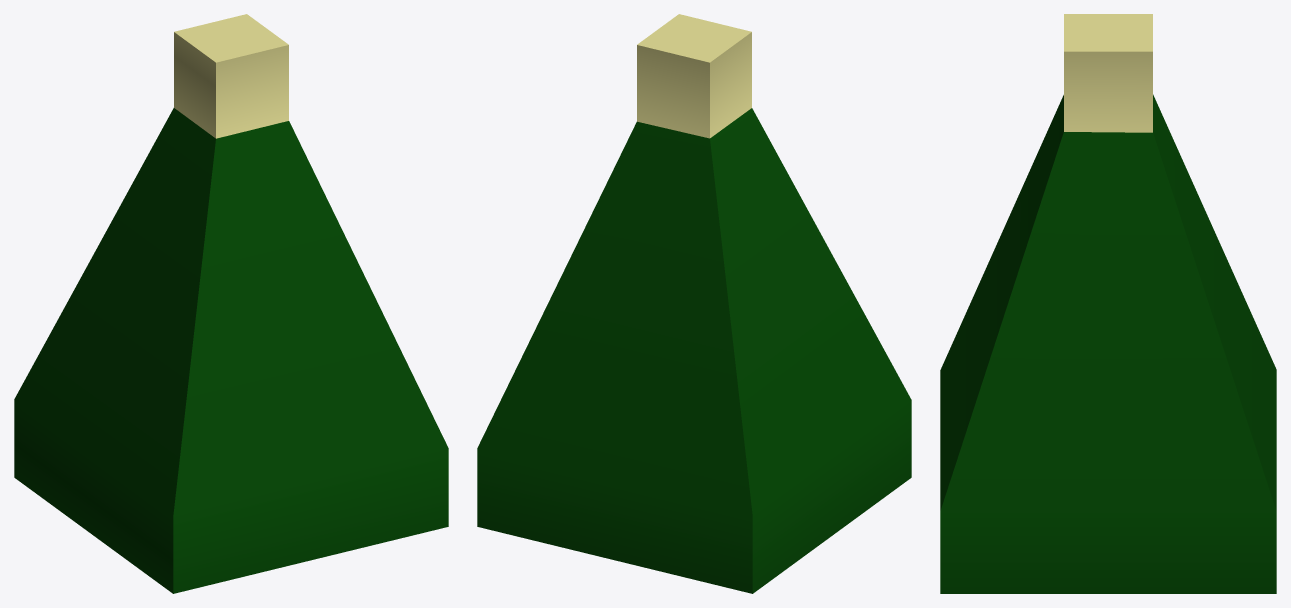
File: green bottle.fbx
3 renders of one model, left to right at view 1: azimuth 30°, elevation 25°; view 2: azimuth 150°, elevation 25°; view 3: azimuth 270°, elevation 25°, orthographic. The views are drawn at different scales.
Parts seen in each view (by area): view 1: Green_bottle; view 2: Green_bottle; view 3: Green_bottle.
Part boxes in pixels (x1,y1,x2,y2): Green_bottle: (14,14,448,593); Green_bottle: (477,14,911,593); Green_bottle: (940,14,1276,593).
Size of the model in its own units: 1.09 by 1.76 by 1.09.
